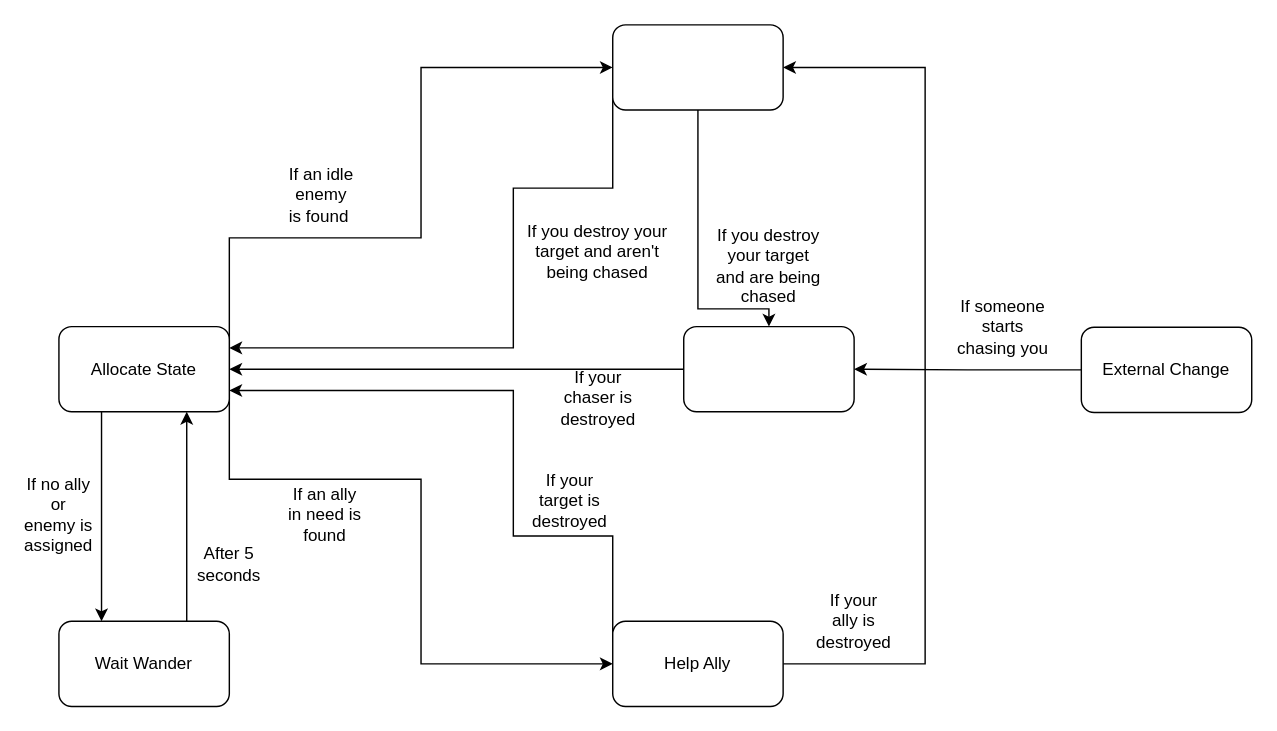
This 1277x731 diagram has some shape labels left out. Here are the shapes that lost their labels. From the top down, the centre of each, then its label:
point 697,66: Chase Down
point 768,368: Shake Enemy
